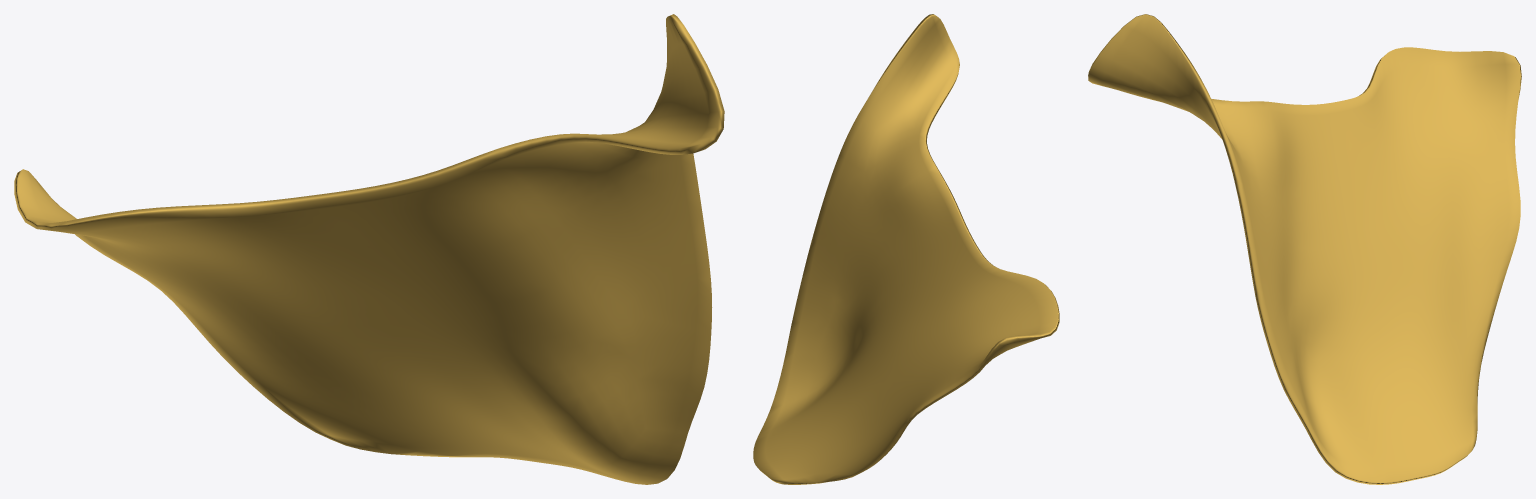
3 views of the same model, side by side, from view 1: azimuth 30°, elevation 25°; view 2: azimuth 150°, elevation 25°; view 3: azimuth 270°, elevation 25° (orthographic). The views are drawn at different scales.
Parts seen in each view (by area): view 1: 小网膜; view 2: 小网膜; view 3: 小网膜.
Boxes of the visible parts, <box> form: 小网膜: <box>14,14,724,484</box>; 小网膜: <box>753,14,1059,484</box>; 小网膜: <box>1088,14,1521,484</box>.
Bounding box in the file's own units: 0.0884 × 0.0943 × 0.0855.
